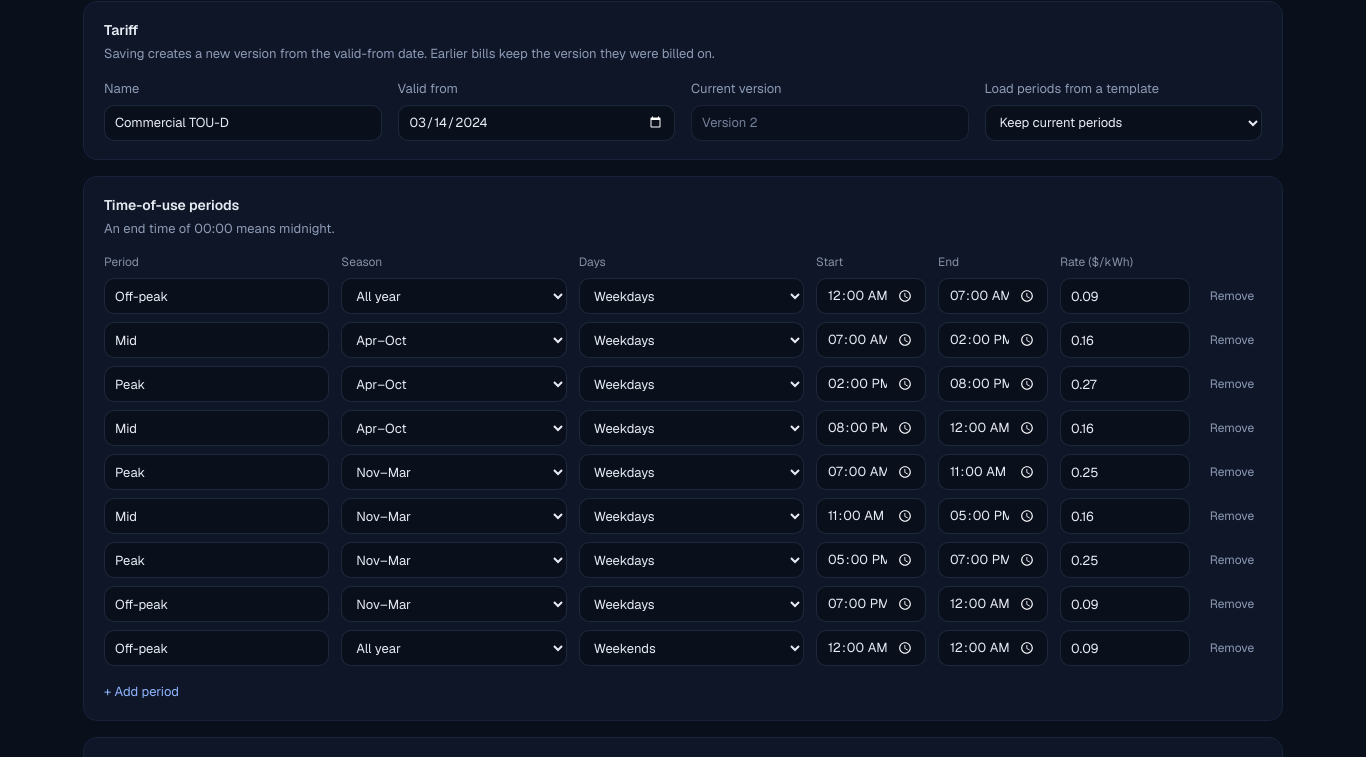
Test: tariff › saves a new version from today, and shows the server’s objection
This screenshot has width=1366, height=757.
(page scrolled)
Replace the text in the number field named "Period 3 rate" with "0.3". click: coordinates (1125, 384)
box: [1060,366,1190,402]
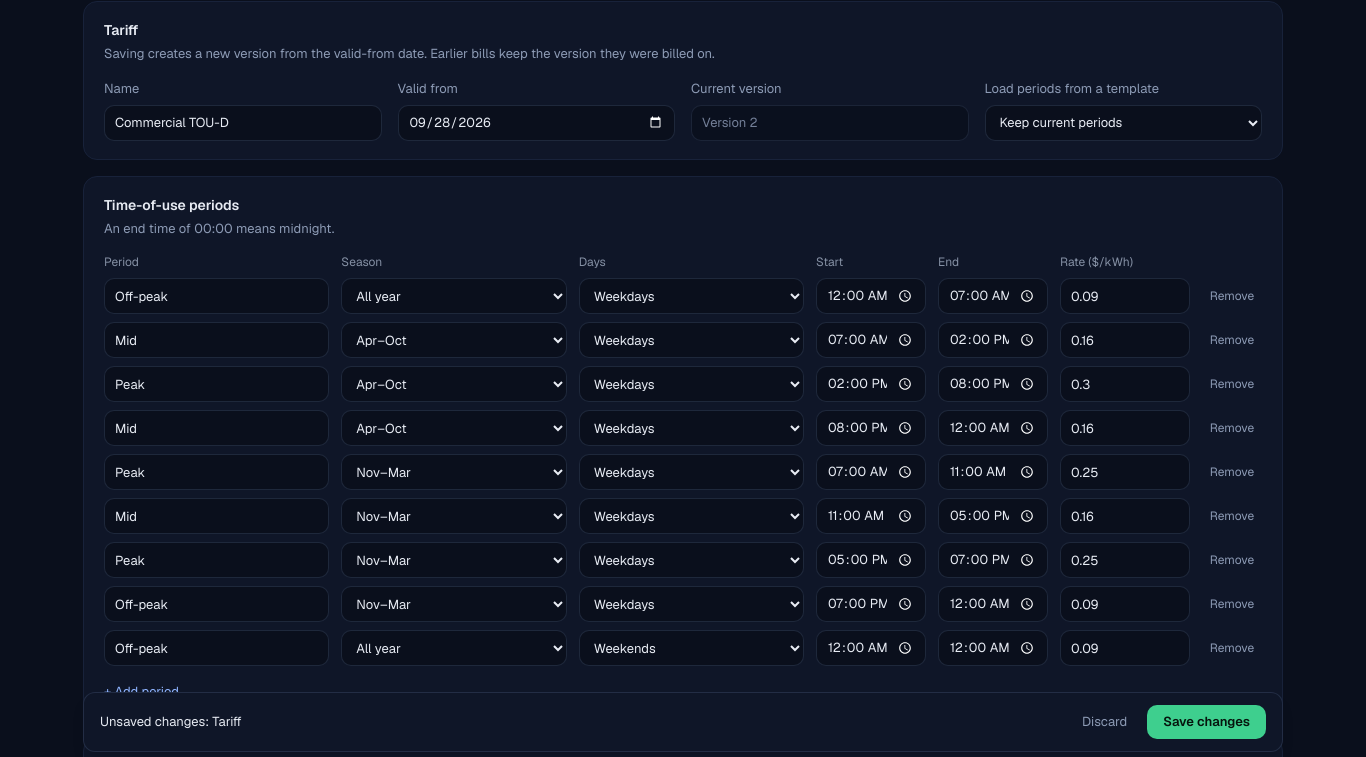
Click the button "Save changes". click: coordinates (1207, 722)
box: [1147,705,1266,739]
(page scrolled)
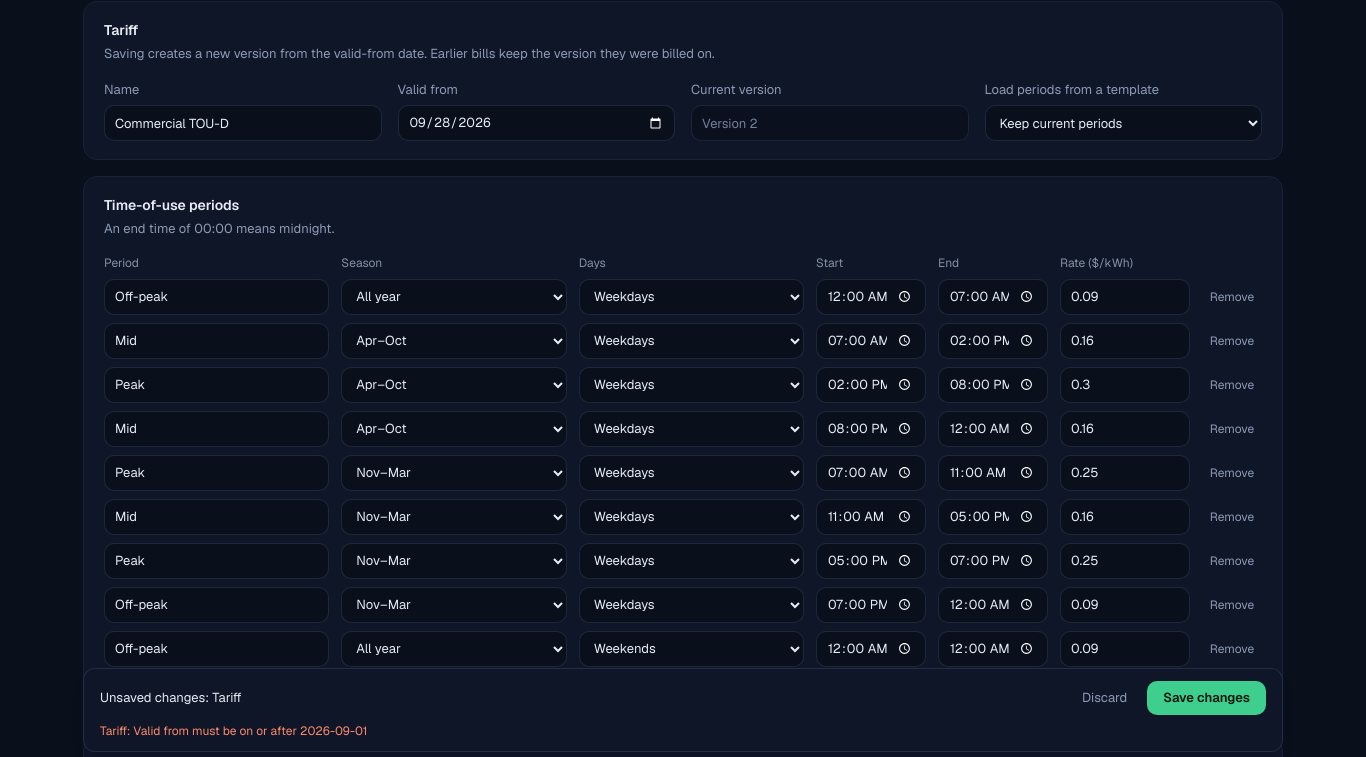
Expected: the element "Unsaved changes" shows "Tariff: Valid from must be on or after 2026-09-01", [83,668,1283,752]
